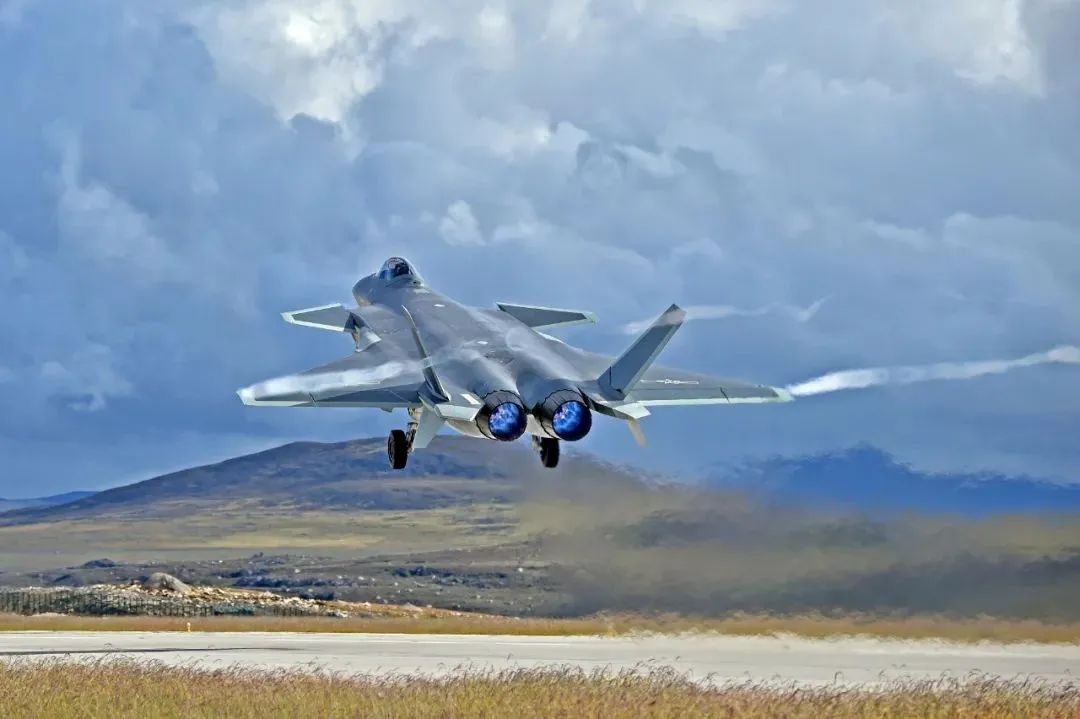J20: (235, 256, 796, 470)
